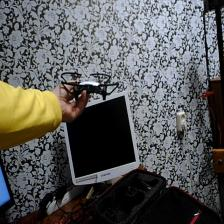drone: (58, 62, 122, 106)
